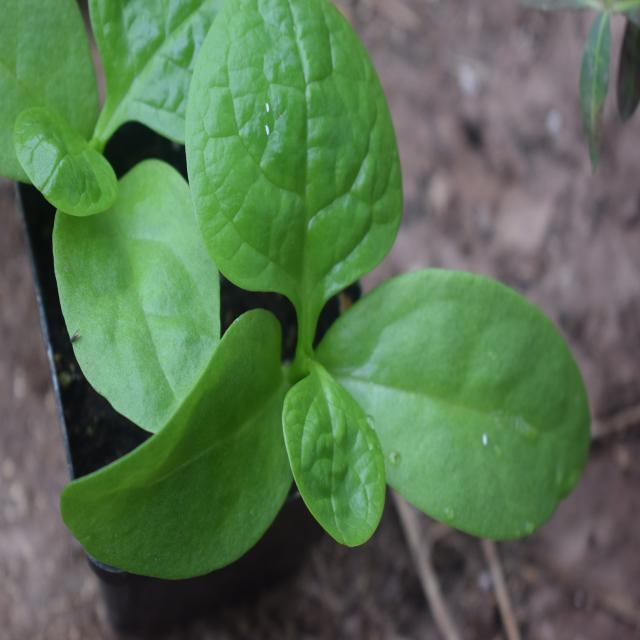Ceylon spinach: (83, 0, 573, 588)
